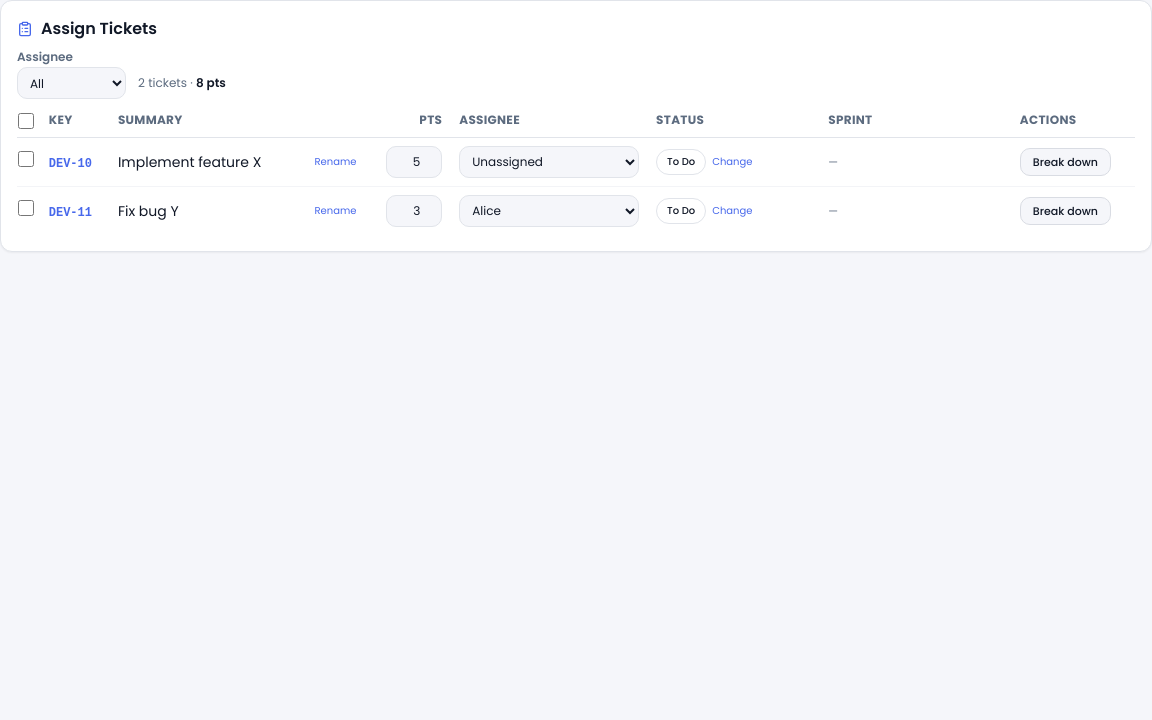
Scenario: AssignmentList — v1.70 (ADR-081) breakdown dialog workflow › creates N new PO stories sequentially with sprintId + description provenance, then refetches
This screenshot has width=1152, height=720.
Expected: the text "Implement feature X" is shown, [118,152,261,172]
Click the button with aria-label "Break down DEV-10". click: (1065, 162)
box: [1020,148,1111,176]
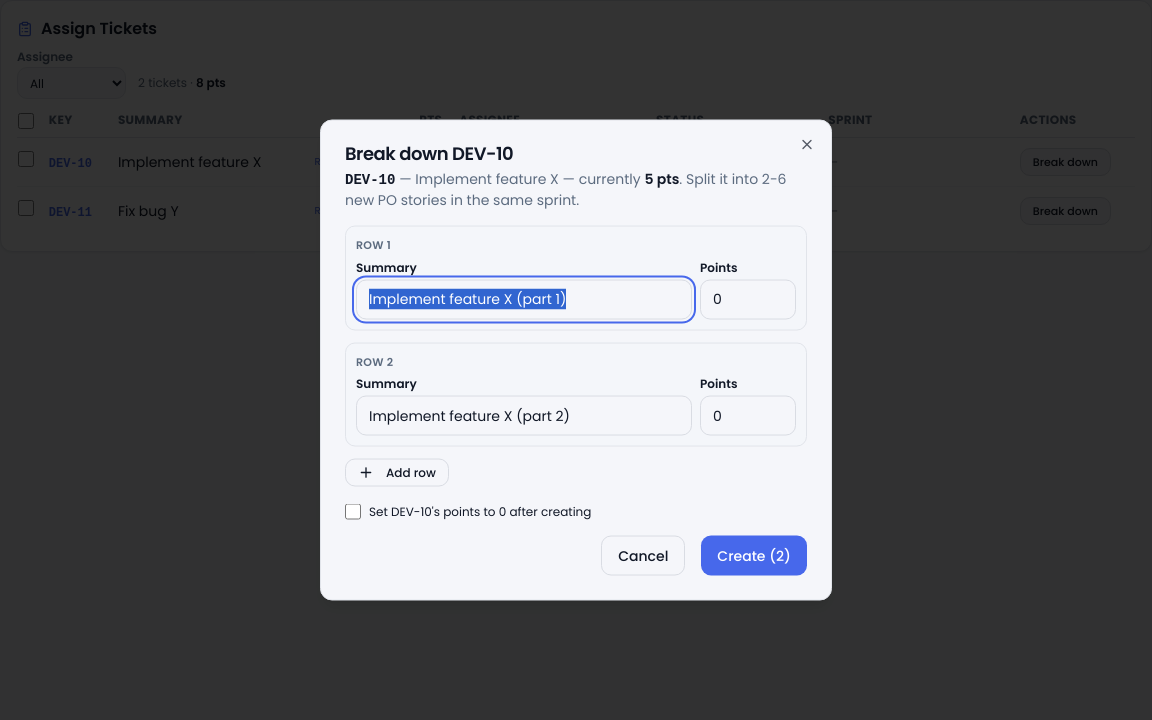
Now the dialog is shown, box [320,120,832,600]
Click the button "Create (2)". click: (754, 556)
box: [701,536,807,576]
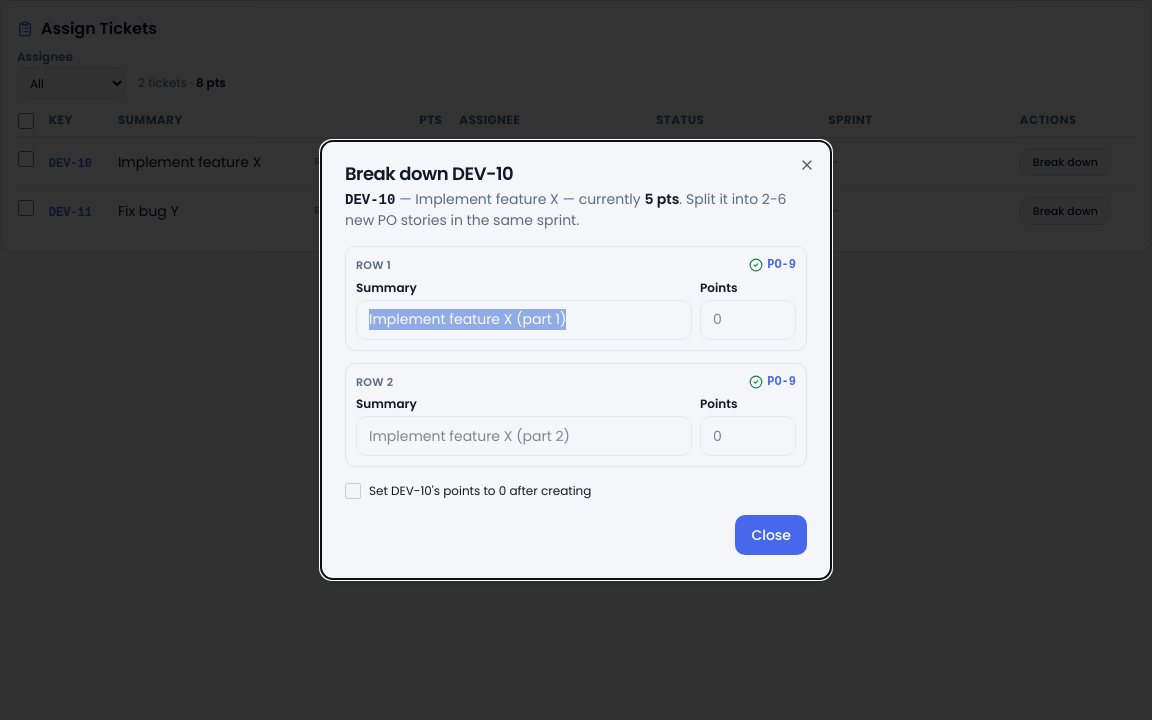
Now the button with aria-label "Close breakdown dialog" is shown, box [735,515,807,555]
